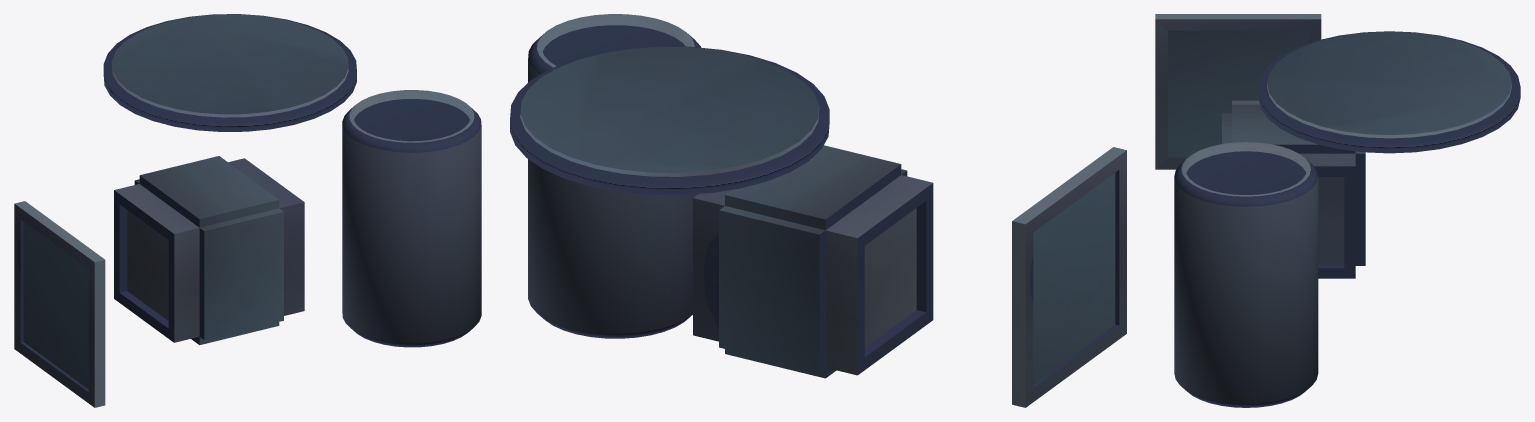
File: obstacles.fbx
3 views of the same model, side by side, from view 1: azimuth 30°, elevation 25°; view 2: azimuth 150°, elevation 25°; view 3: azimuth 270°, elevation 25° (orthographic). The views are drawn at different scales.
Visible parts, largest first — view 1: Cylinder.002, Cylinder.003, Cylinder.004, Cylinder.001; view 2: Cylinder.003, Cylinder.004, Cylinder.002, Cylinder.001; view 3: Cylinder.002, Cylinder.004, Cylinder.001, Cylinder.003.
Part boxes in pixels (x1=…): Cylinder.002: x1=342, y1=90, x2=481, y2=347; Cylinder.003: x1=114, y1=156, x2=304, y2=345; Cylinder.004: x1=103, y1=14, x2=356, y2=131; Cylinder.001: x1=14, y1=201, x2=105, y2=407; Cylinder.003: x1=693, y1=145, x2=933, y2=378; Cylinder.004: x1=510, y1=46, x2=829, y2=195; Cylinder.002: x1=528, y1=14, x2=700, y2=338; Cylinder.001: x1=1012, y1=147, x2=1126, y2=407; Cylinder.002: x1=1174, y1=142, x2=1318, y2=407; Cylinder.004: x1=1258, y1=31, x2=1520, y2=153; Cylinder.001: x1=1155, y1=14, x2=1321, y2=169; Cylinder.003: x1=1222, y1=100, x2=1365, y2=278.
Bounding box in the file's own units: 4024 × 2128 × 2925.
